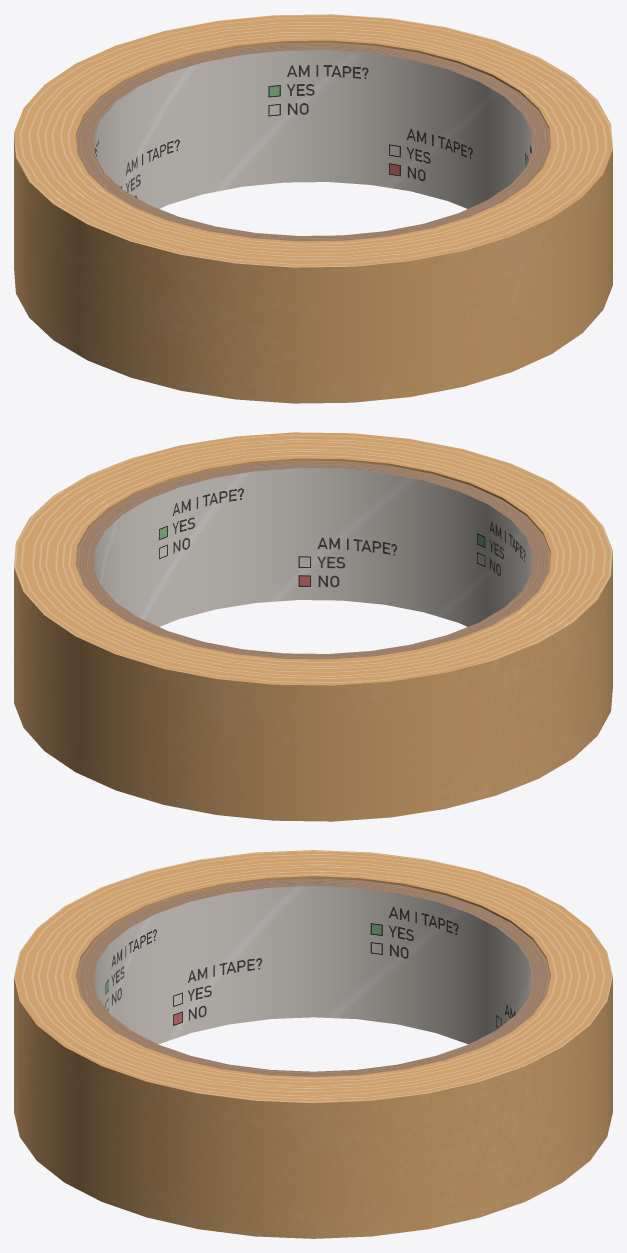
Rendered from Tape_Masking.fbx.
3 views of the same model, one above another, from view 1: azimuth 30°, elevation 25°; view 2: azimuth 150°, elevation 25°; view 3: azimuth 270°, elevation 25° (orthographic).
Visible parts, largest first — view 1: Tape_Masking; view 2: Tape_Masking; view 3: Tape_Masking.
Part boxes in pixels (box(x1,y1,x2,y2)): Tape_Masking: box(14, 14, 612, 403); Tape_Masking: box(14, 432, 612, 821); Tape_Masking: box(14, 850, 612, 1238).
Size of the model in its own units: 100 by 100 by 25.
